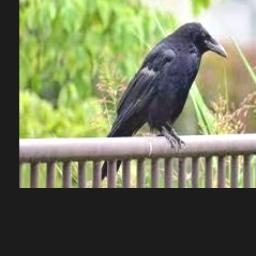Crow: (100, 21, 228, 181)
